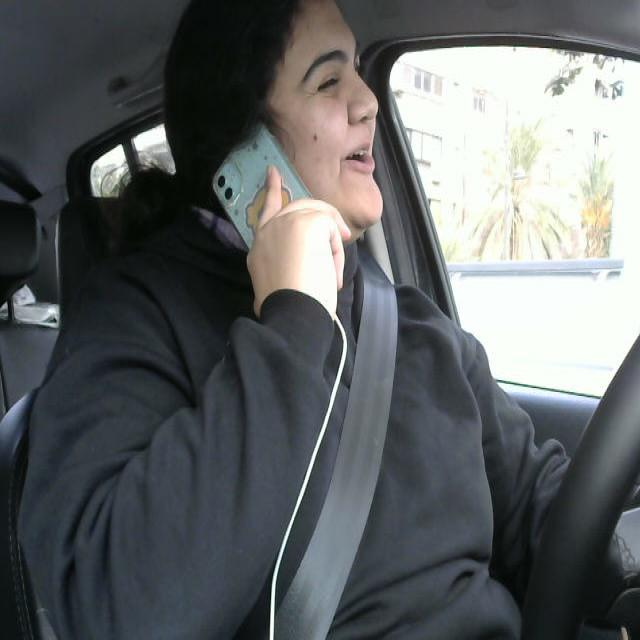mobile use: (210, 118, 343, 290)
